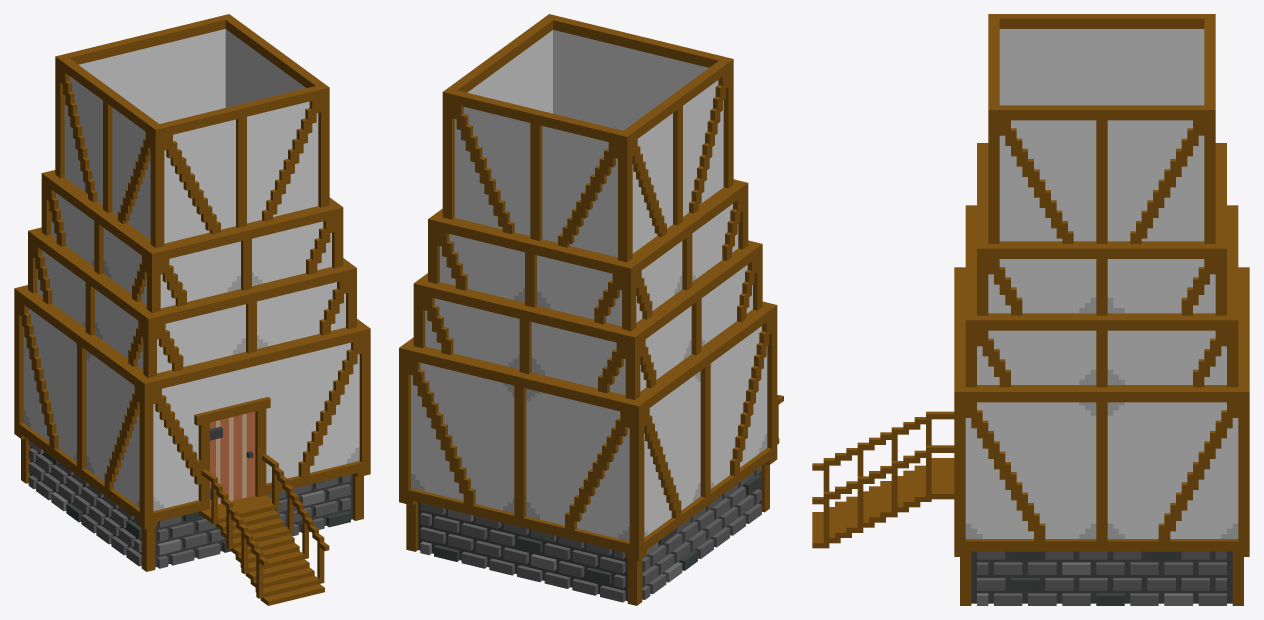
Rendered from Second House-2-2-Mill.obj.
The picture shows the model from 3 angles, left to right: view 1: azimuth 30°, elevation 25°; view 2: azimuth 150°, elevation 25°; view 3: azimuth 270°, elevation 25°; orthographic projection. The views are drawn at different scales.
Parts seen in each view (by area): view 1: Mill; view 2: Mill; view 3: Mill.
Boxes of the visible parts, left/top/right/bottom form: Mill: left=14, top=14, right=370, bottom=605; Mill: left=399, top=14, right=783, bottom=605; Mill: left=812, top=14, right=1249, bottom=605.
Size of the model in its own units: 5.2 by 9.4 by 7.7.
Materials: 1 (1 with a texture image).
